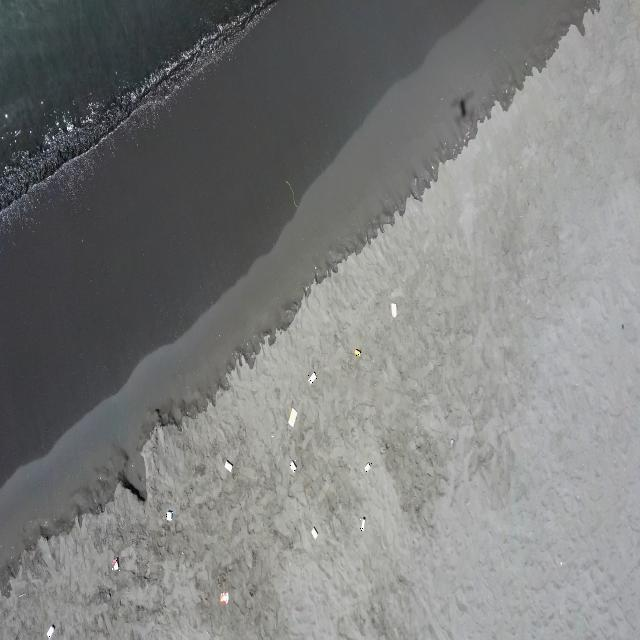Garbage: (287, 407, 296, 426), (45, 624, 55, 637), (111, 556, 119, 571), (223, 459, 232, 472), (307, 371, 316, 383), (288, 460, 296, 472), (219, 592, 227, 604), (164, 510, 173, 520), (364, 462, 372, 471), (353, 347, 360, 356), (391, 301, 395, 316), (360, 516, 364, 531), (312, 527, 316, 539), (449, 437, 453, 447), (18, 592, 24, 596)
